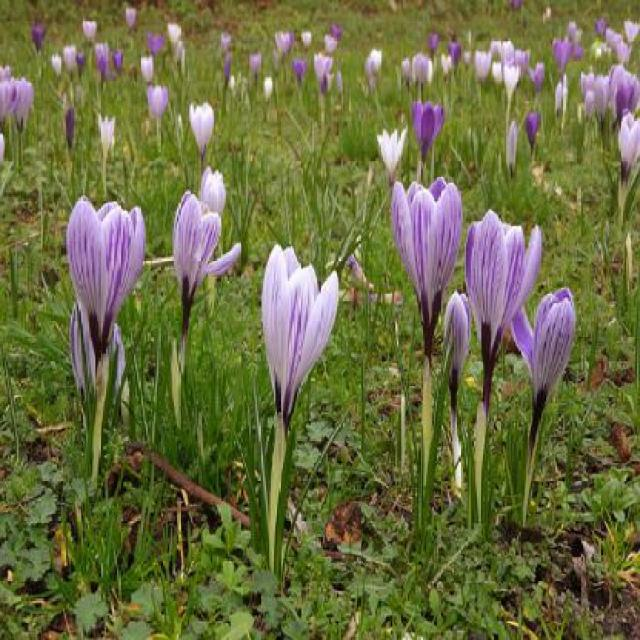Flower: (63, 190, 149, 361), (262, 237, 340, 423), (458, 212, 544, 366), (389, 177, 463, 329), (170, 189, 242, 320), (513, 286, 576, 431), (439, 295, 472, 408), (5, 69, 37, 137), (413, 95, 445, 159), (376, 124, 407, 184), (190, 96, 216, 162), (618, 112, 640, 183), (313, 46, 336, 97), (145, 84, 172, 125), (95, 113, 118, 161), (524, 104, 542, 148), (503, 61, 522, 101), (506, 117, 519, 175), (62, 105, 78, 148), (248, 46, 263, 80), (223, 51, 234, 86)
